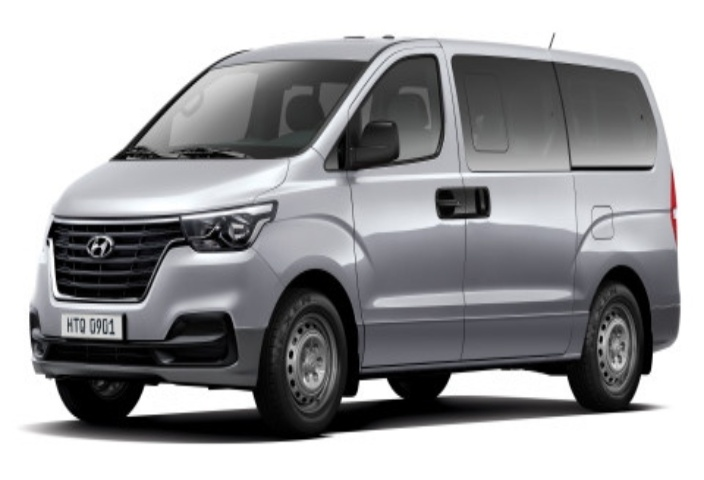van: (36, 28, 677, 441)
